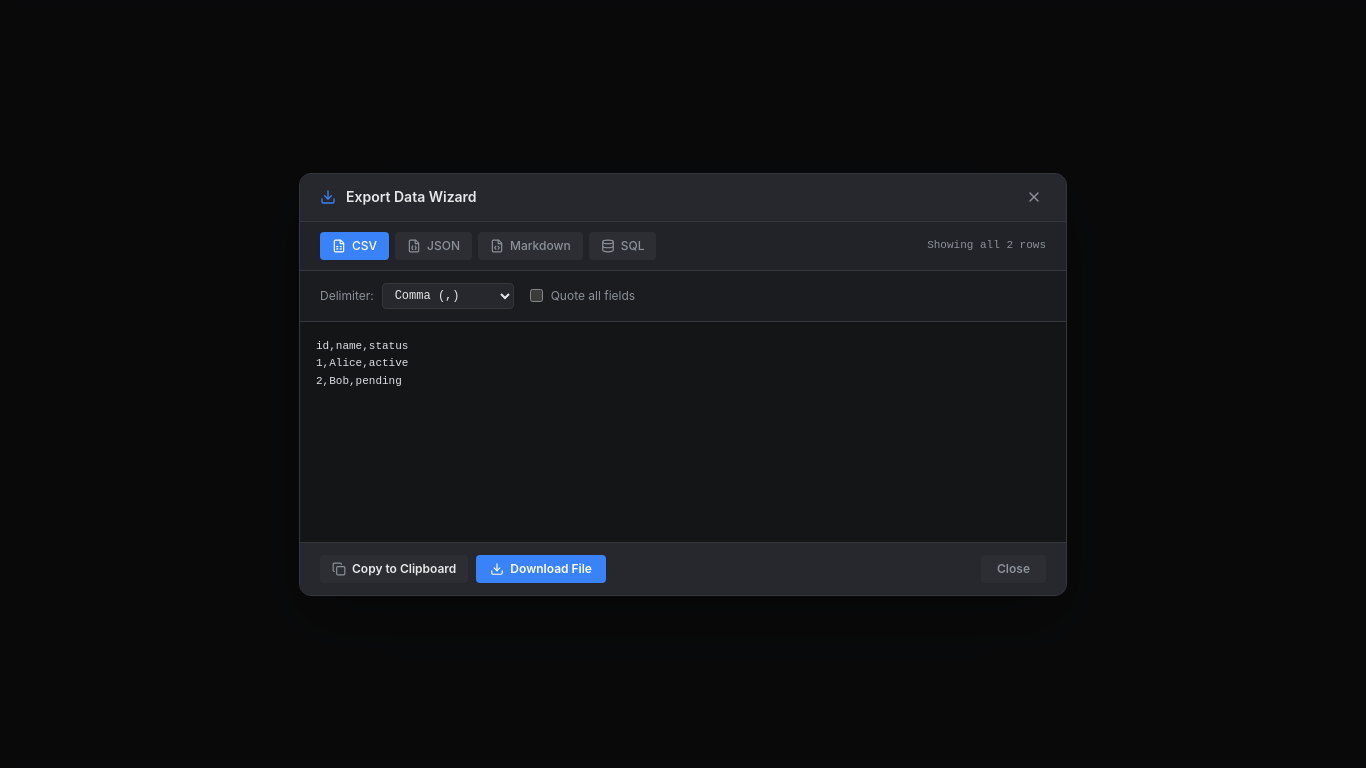
it: ExportModal component › copies export content to clipboard and shows temporary feedback
Click the button "Copy to Clipboard": (394, 568) [320, 554, 468, 582]
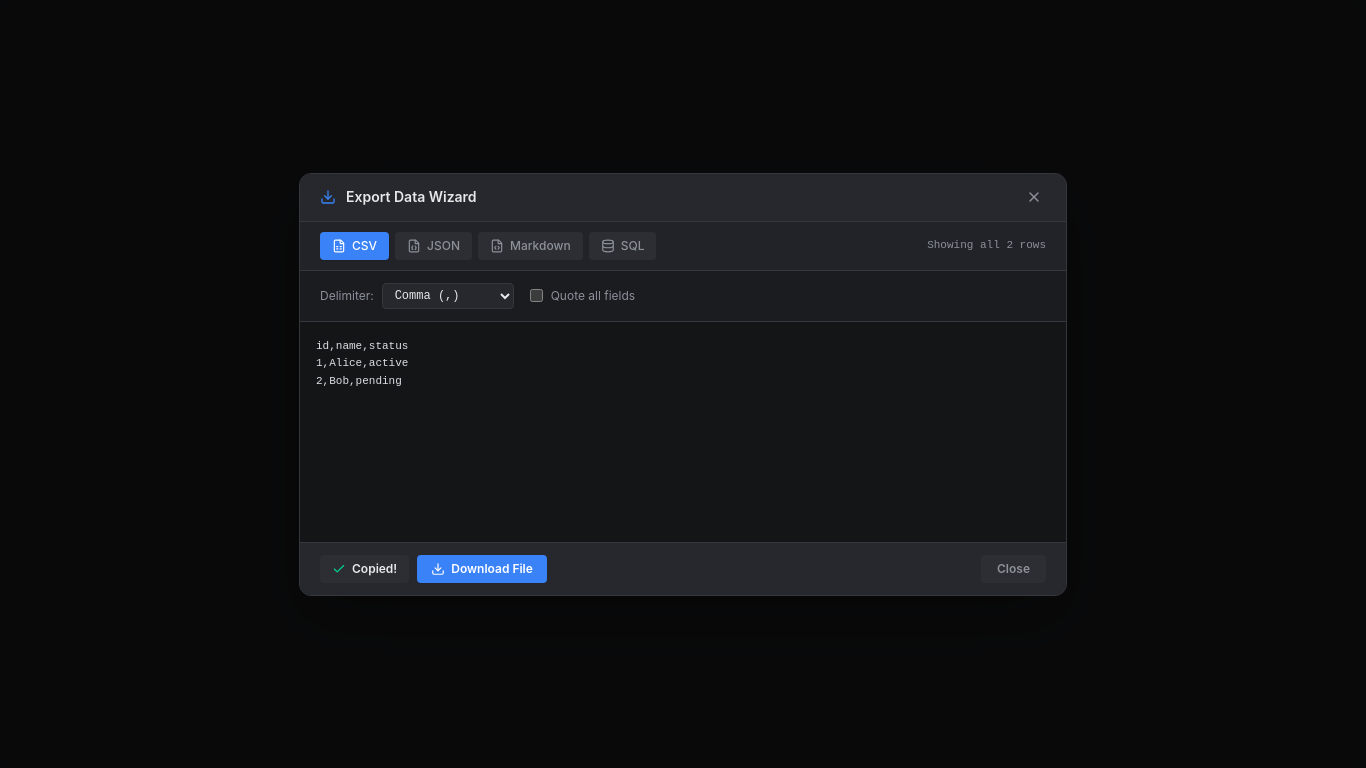
Check: the text "Copied!" is shown, box [352, 560, 397, 576]
